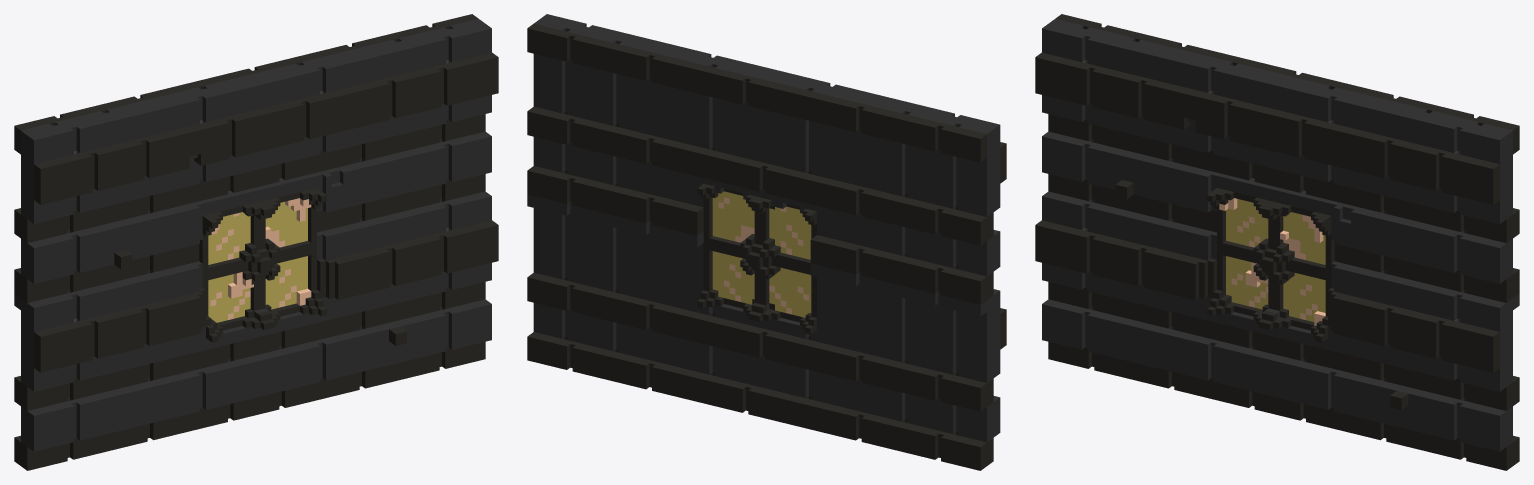
File: WallWindowWarmStone.obj
3 views of the same model, side by side, from view 1: azimuth 30°, elevation 25°; view 2: azimuth 150°, elevation 25°; view 3: azimuth 330°, elevation 25° (orthographic).
Size of the model in its own units: 8 by 5.6 by 0.8.
1 material, 1 textured.
